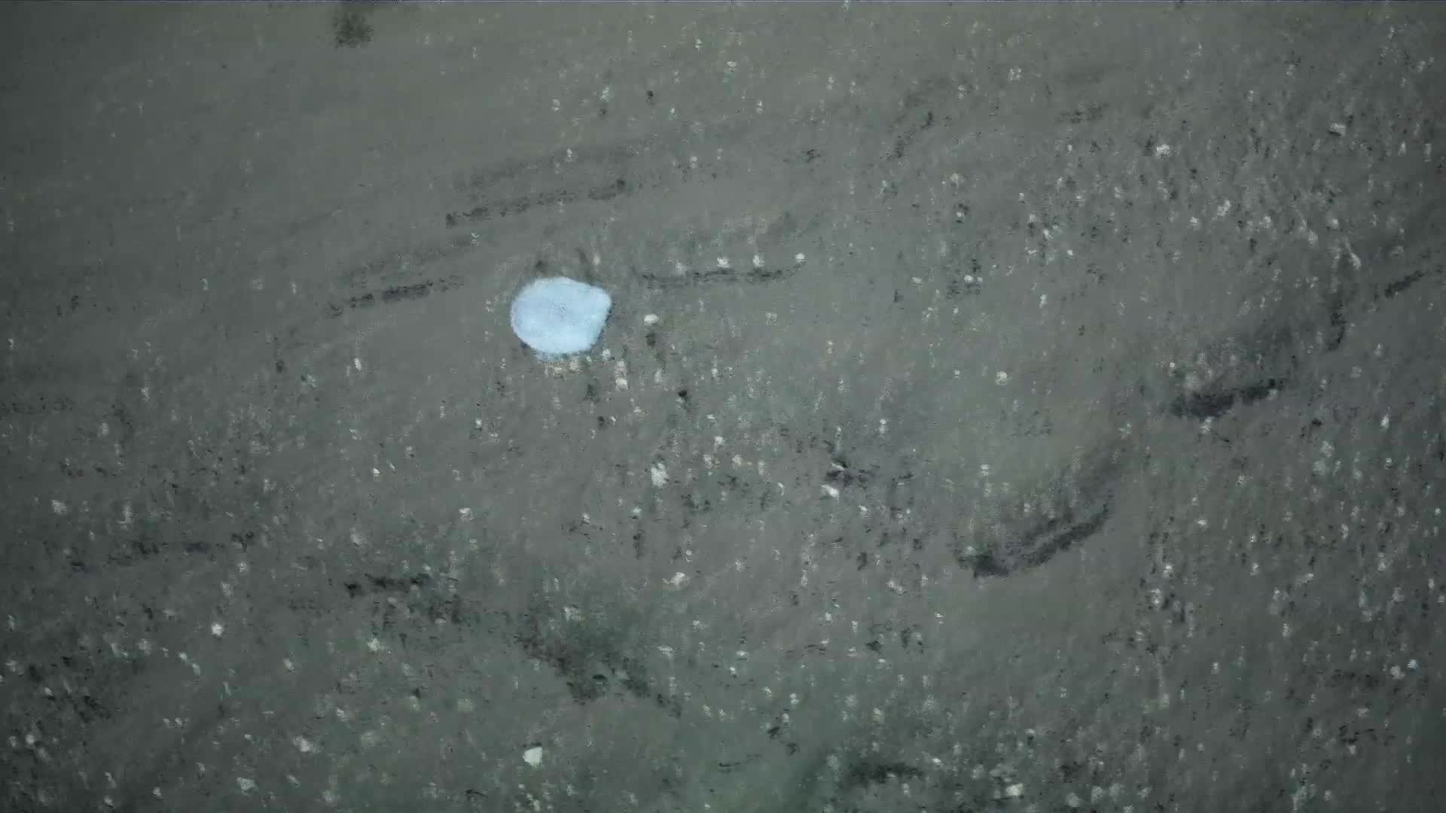Target: (507, 269, 614, 361)
